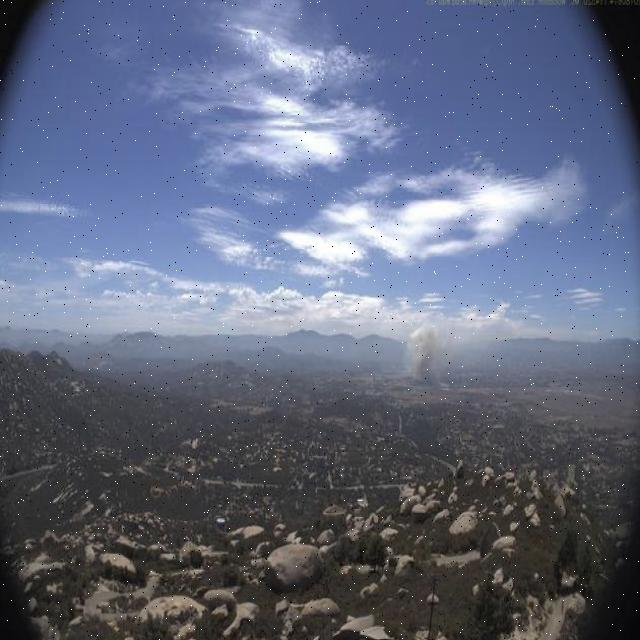smoke: (400, 316, 448, 398)
